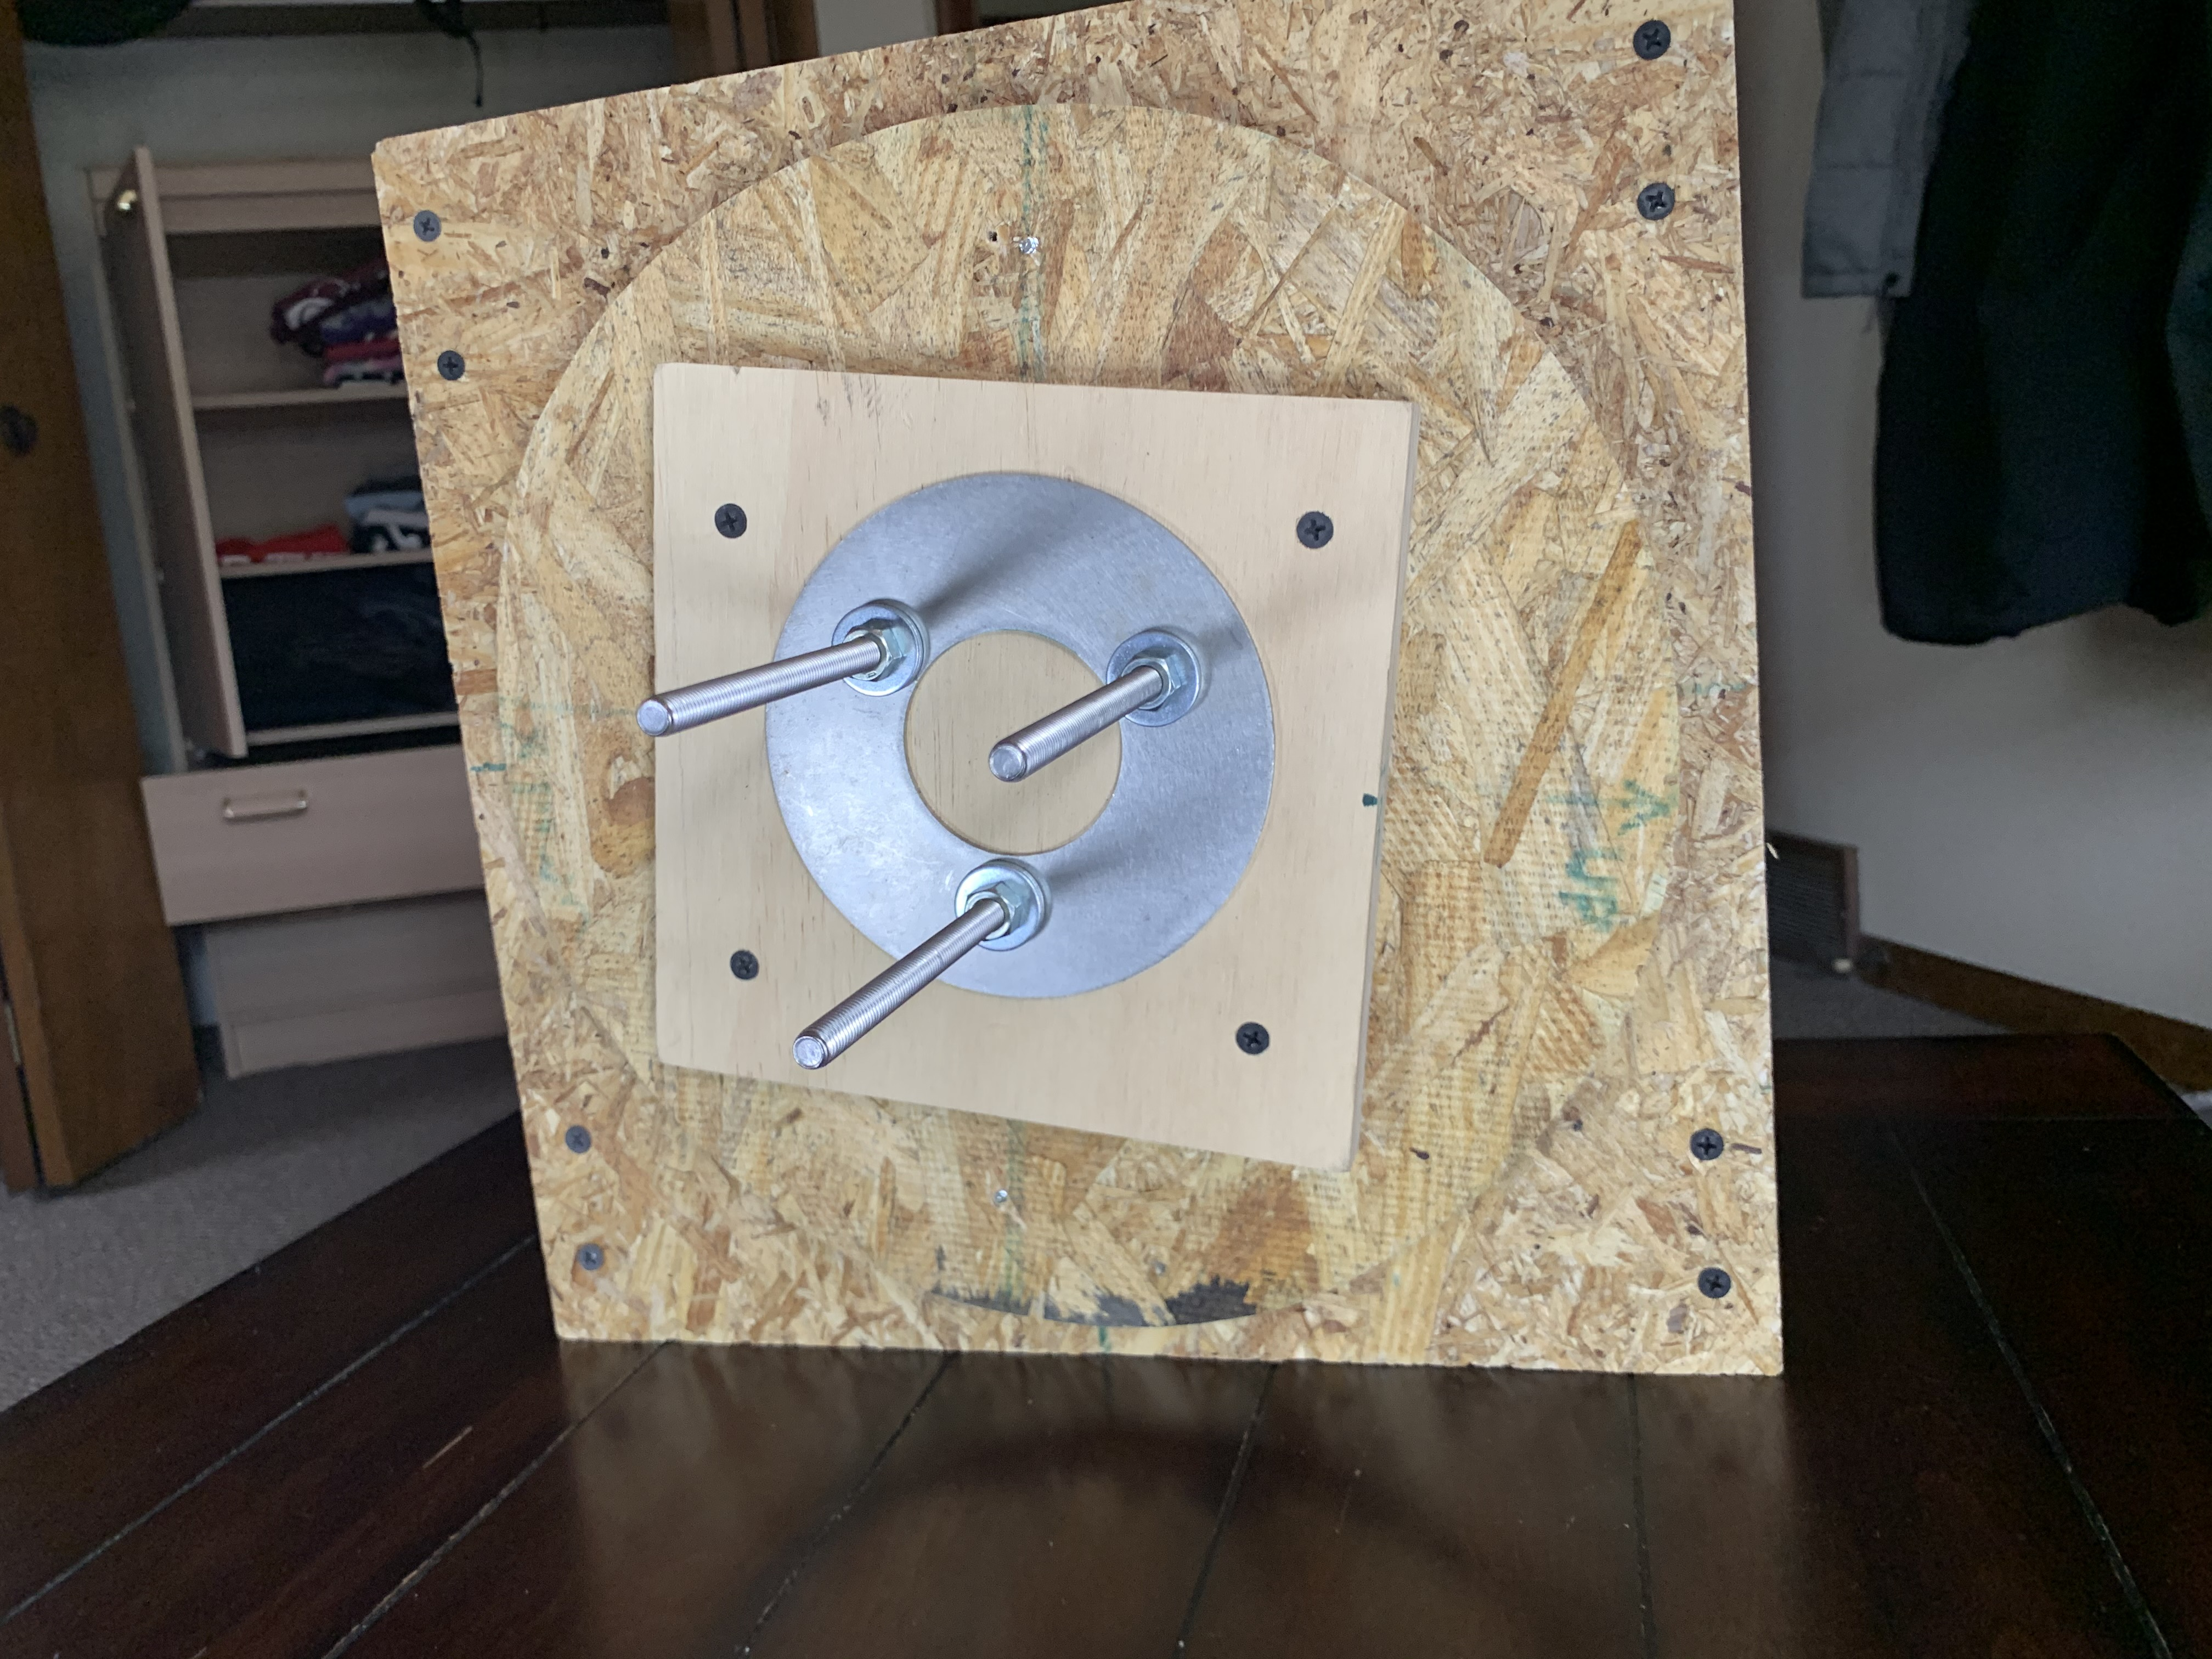bolt: (829, 596, 932, 702), (951, 856, 1052, 953), (1106, 627, 1200, 723)
